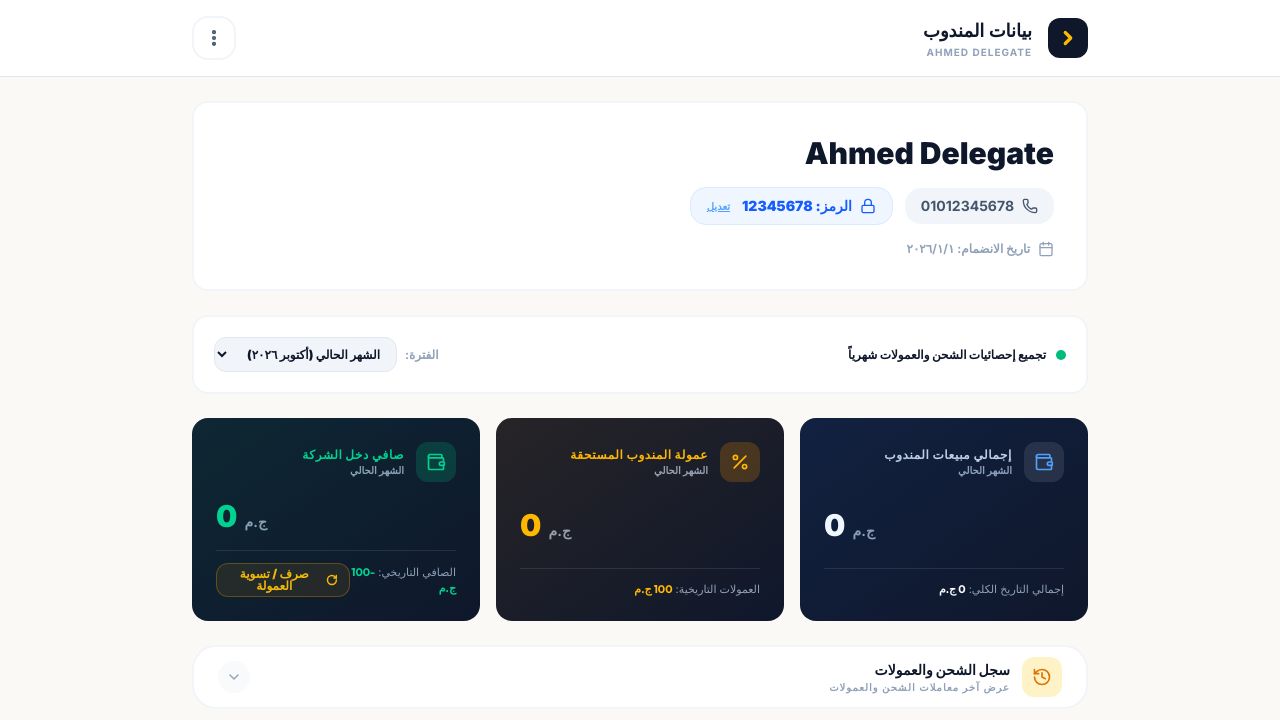
Test: AdminDelegateDetailsView Component › shows first-grant commission events in monthly stats without counting them as sales
Click the heading "سجل الشحن والعمولات" at (942, 669), box [874,660,1010,678]
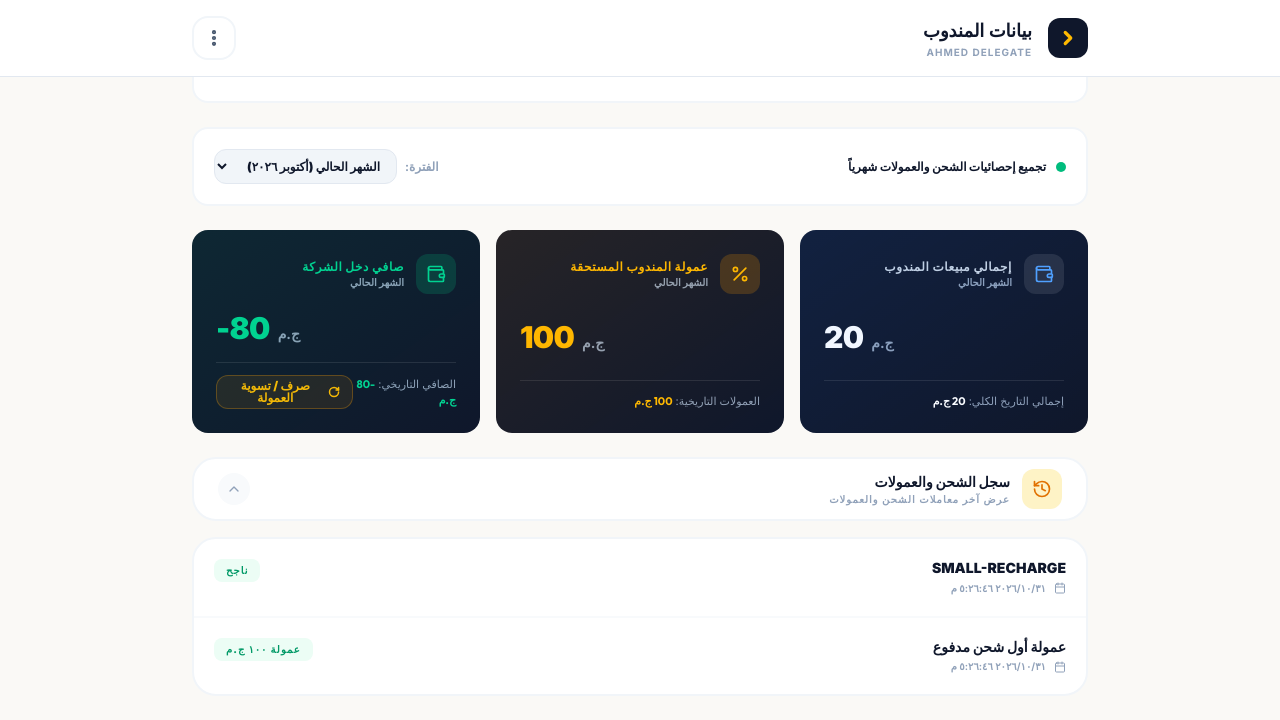
Now the text "SMALL-RECHARGE" is shown, box [932,559,1066,576]
Now the text "20" is shown, box [824,319,863,355]
Now the text "100" is shown, box [520,319,574,355]
